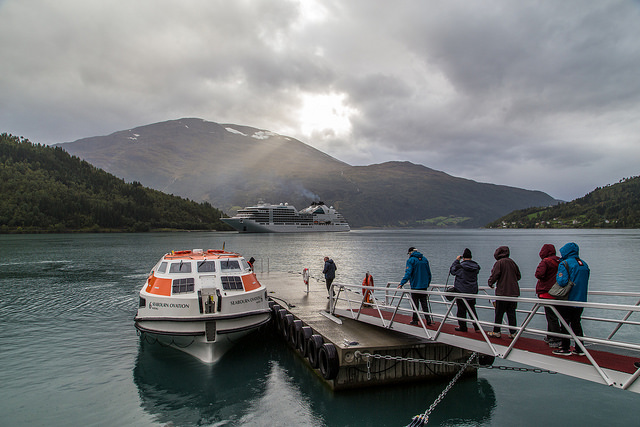boat: (142, 243, 272, 373)
cruise_ship: (221, 195, 353, 236)
